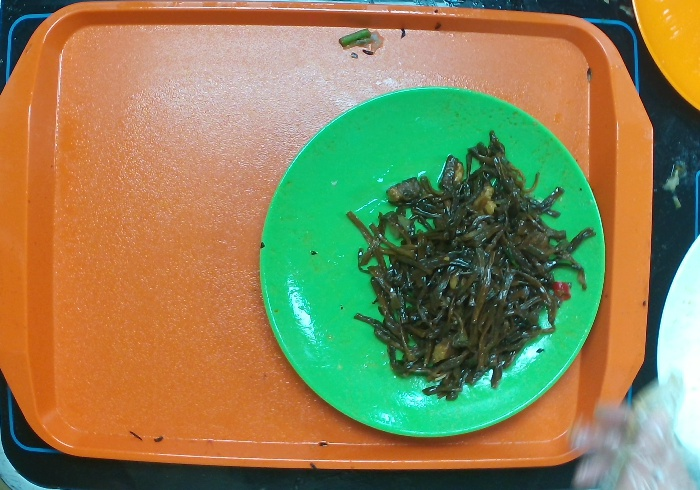HZYJPL-Lv_Se_Yuan_Pan: (242, 72, 613, 446)
